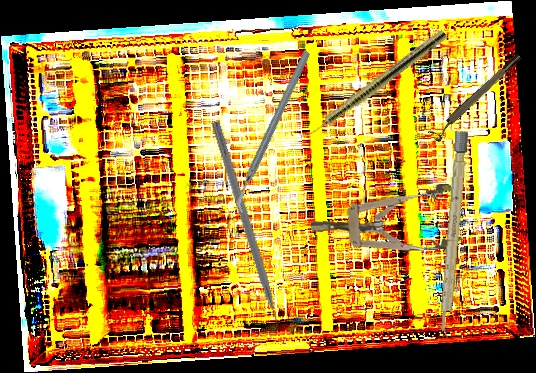Chopper: (186, 49, 361, 217), (199, 120, 286, 341)
Fixation Ring: (427, 51, 527, 144)
Handpiece: (298, 27, 449, 145)
Scalpel Handle: (437, 130, 469, 339)
Speculum: (308, 182, 466, 259)
